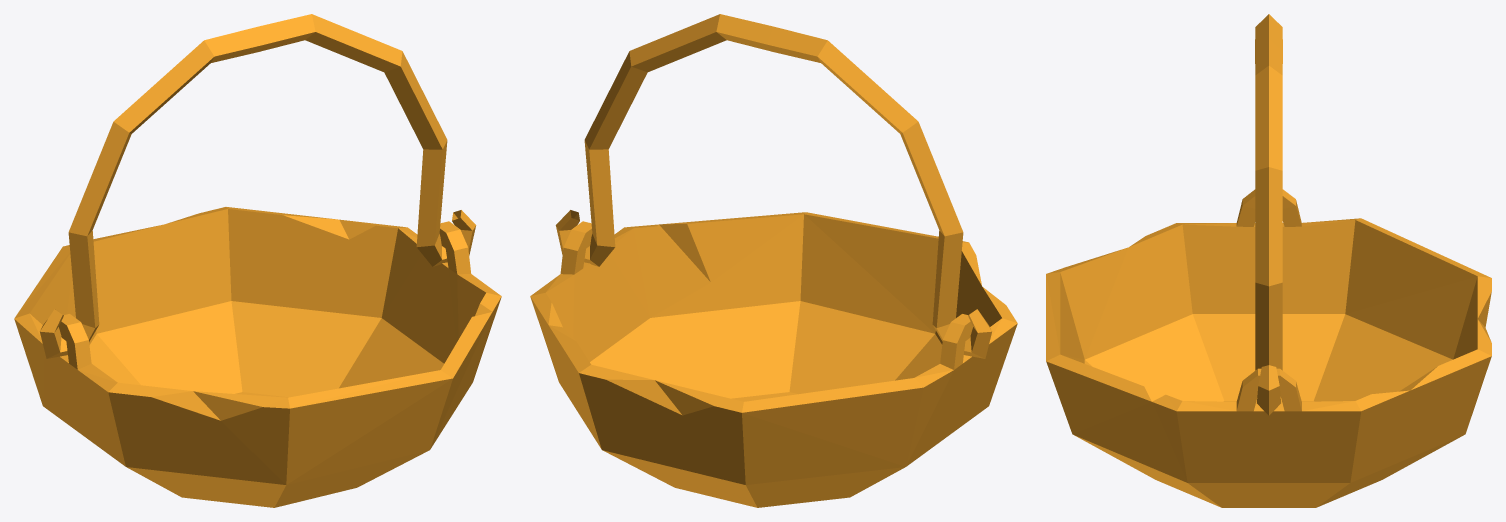
File: SM_Kitchen_Kettle_C_Fantasy.fbx
3 renders of one model, left to right at view 1: azimuth 30°, elevation 25°; view 2: azimuth 150°, elevation 25°; view 3: azimuth 270°, elevation 25°, orthographic.
Visible parts, largest first — view 1: kitchen-kettle-base-c-fantasy, kitchen-kettle-handle-c-fantasy; view 2: kitchen-kettle-base-c-fantasy, kitchen-kettle-handle-c-fantasy; view 3: kitchen-kettle-base-c-fantasy, kitchen-kettle-handle-c-fantasy.
Boxes of the visible parts, x1,y1,x2,y2 form: kitchen-kettle-base-c-fantasy: (14,207,501,507); kitchen-kettle-handle-c-fantasy: (40,14,476,358); kitchen-kettle-base-c-fantasy: (530,212,1017,507); kitchen-kettle-handle-c-fantasy: (555,14,991,358); kitchen-kettle-base-c-fantasy: (1046,189,1491,507); kitchen-kettle-handle-c-fantasy: (1255,14,1282,415).
Bounding box in the file's own units: 0.3692 × 0.3467 × 0.3328.
